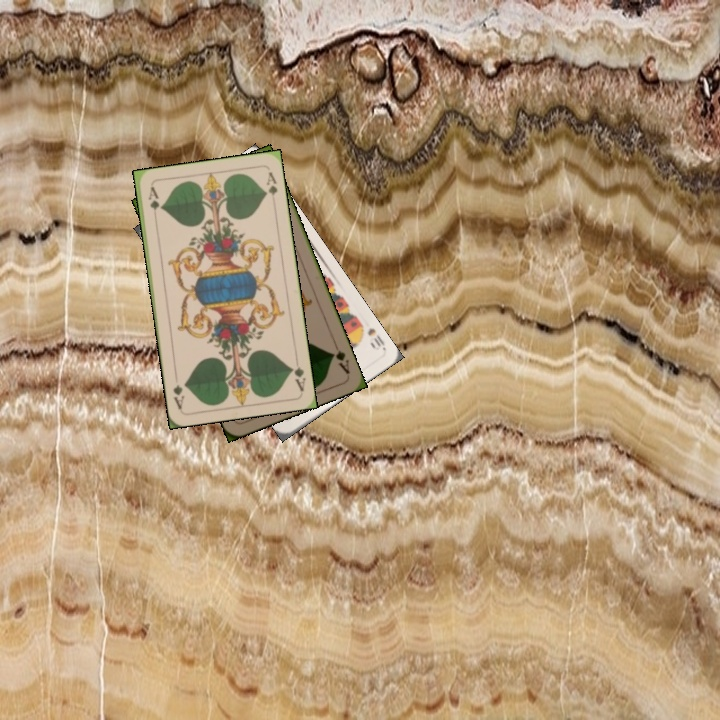GA: (327, 338, 352, 377), (286, 353, 308, 393), (144, 183, 161, 224)
S10: (354, 319, 388, 353)
